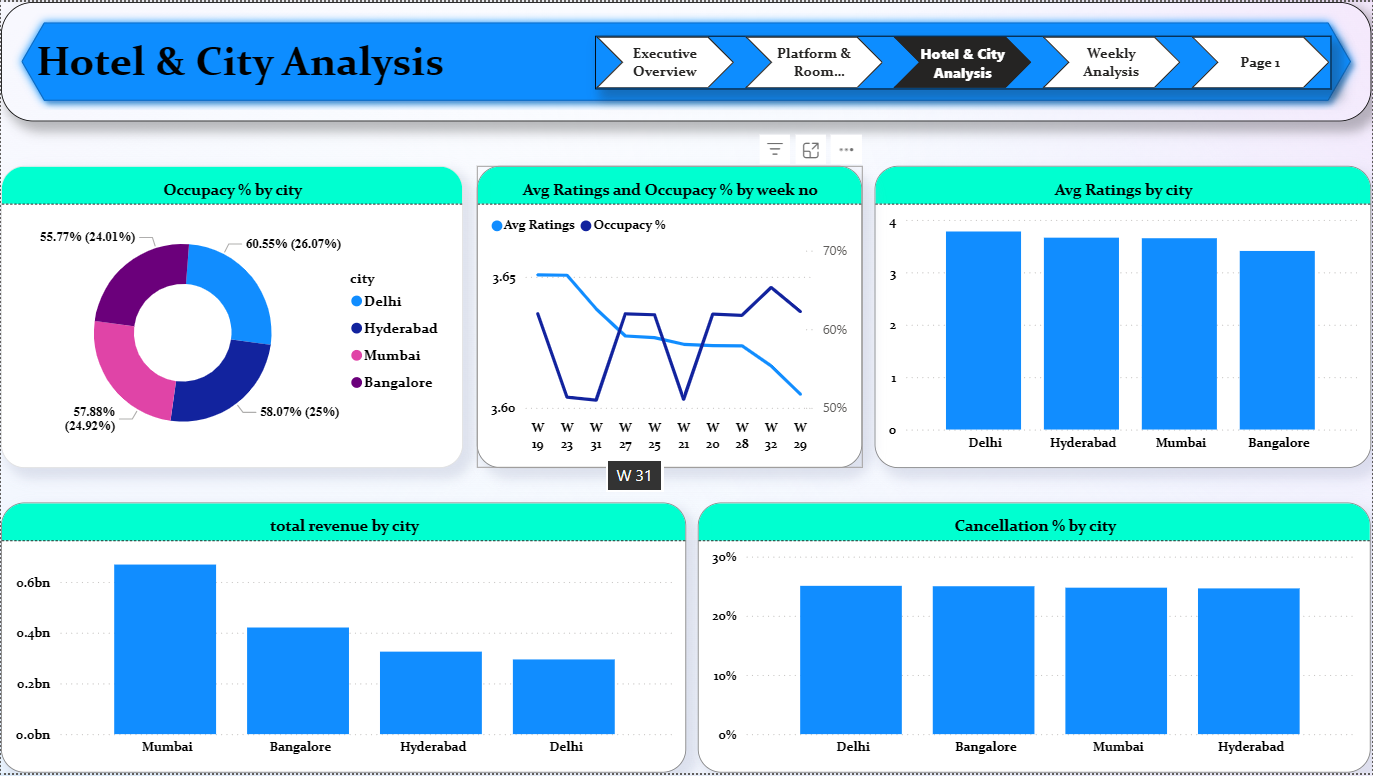

The dashboard page shown, as its layout file describes it:
{"tool":"powerbi","page":{"name":"Hotel & City Analysis","canvas":[1280,720],"ordinal":2},"visuals":[{"type":"shape","box":[0,0,1280,111.2],"z":0},{"type":"columnChart","fields":{"Category":["dim_hotels.city"],"Y":["New measures.total revenue"]},"box":[0,467.5,640,252.5],"z":1000},{"type":"donutChart","fields":{"Category":["dim_hotels.city"],"Y":["New measures.Occupacy %"]},"box":[0,152.5,431.2,282.5],"z":2000},{"type":"columnChart","fields":{"Category":["dim_hotels.city"],"Y":["New measures.Avg Ratings"]},"box":[816.2,152.5,463.8,282.5],"z":3000},{"type":"columnChart","fields":{"Category":["dim_hotels.city"],"Y":["New measures.Cancellation %"]},"box":[651.2,467.5,628.8,252.5],"z":4000},{"type":"lineChart","fields":{"Category":["dim_date.week no"],"Y":["New measures.Avg Ratings"],"Y2":["New measures.Occupacy %"]},"box":[445,152.5,360,282.5],"z":5000},{"type":"pageNavigator","box":[555,31.2,687.5,50],"z":6000}]}

Visuals, with their boxes in screenshot pixels (x1, y1, x2, y2), scaled from the page's 1280x720 canvas onto the 1373x776 screenshot:
shape: x1=0 y1=0 x2=1372 y2=120
columnChart - dim_hotels.city x New measures.total revenue: x1=0 y1=504 x2=686 y2=775
donutChart - dim_hotels.city x New measures.Occupacy %: x1=0 y1=164 x2=463 y2=469
columnChart - dim_hotels.city x New measures.Avg Ratings: x1=876 y1=164 x2=1372 y2=469
columnChart - dim_hotels.city x New measures.Cancellation %: x1=699 y1=504 x2=1372 y2=775
lineChart - dim_date.week no x New measures.Avg Ratings: x1=477 y1=164 x2=863 y2=469
pageNavigator: x1=595 y1=34 x2=1333 y2=88
